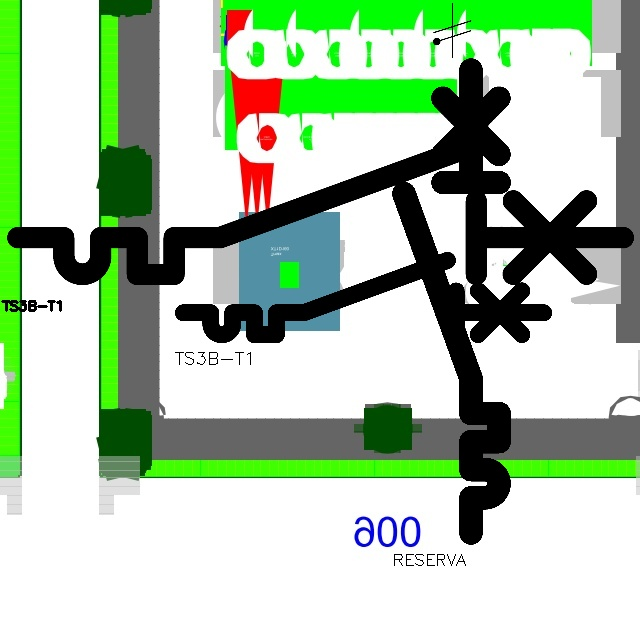interruptor_termomagnetico: (2, 134, 639, 290), (392, 58, 511, 545), (174, 251, 553, 344)
